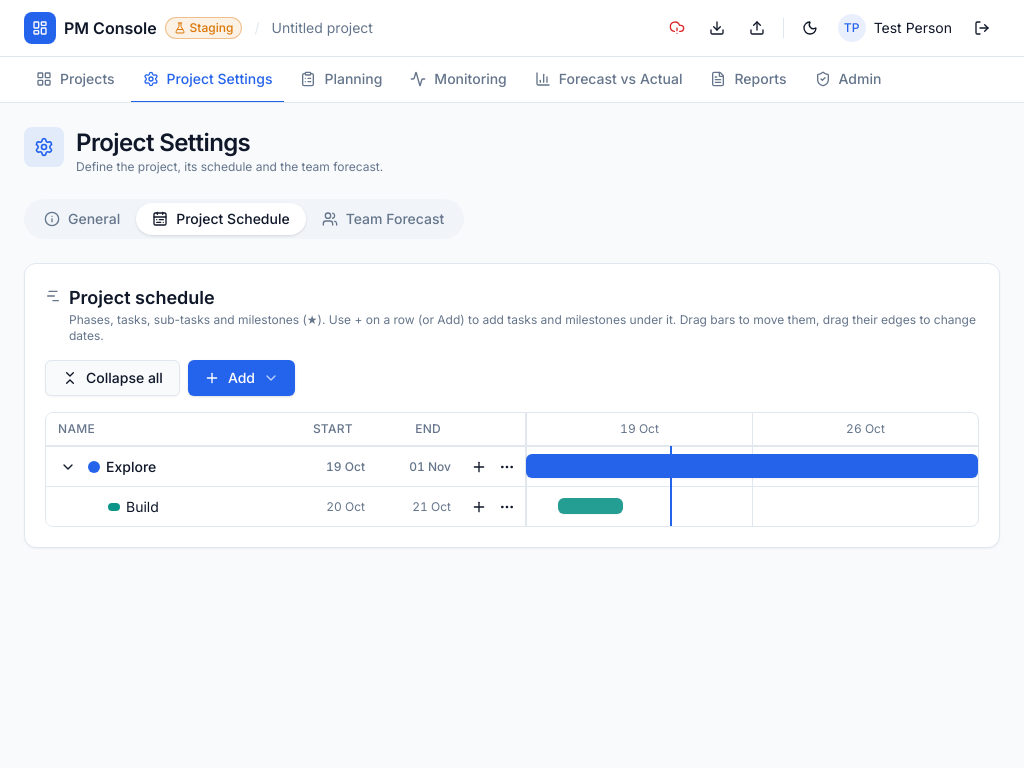
Test: Project schedule (Gantt) › collapses and expands children
The width and height of the screenshot is (1024, 768).
Expected: the element "Build 20 Oct 21 Oct" is shown, [46,486,526,526]
Click the button named "Collapse Explore": (68,466) [54,452,82,480]
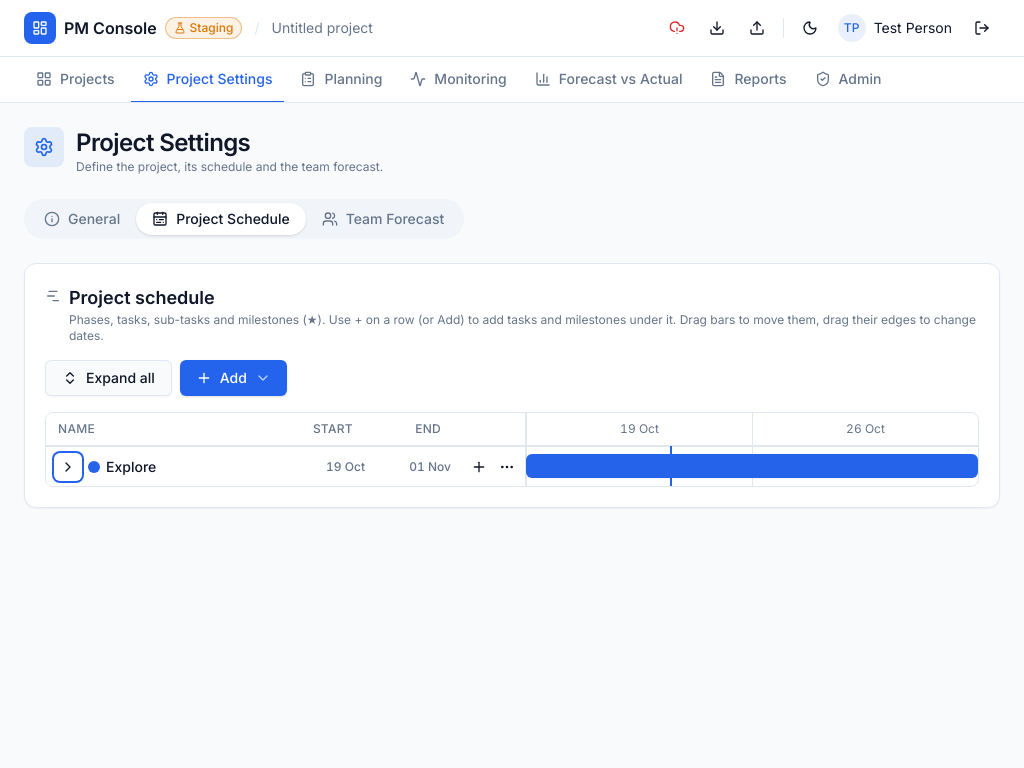
Now the text "Build" is gone
Click the button named "Expand Explore": (68,466) [54,452,82,480]
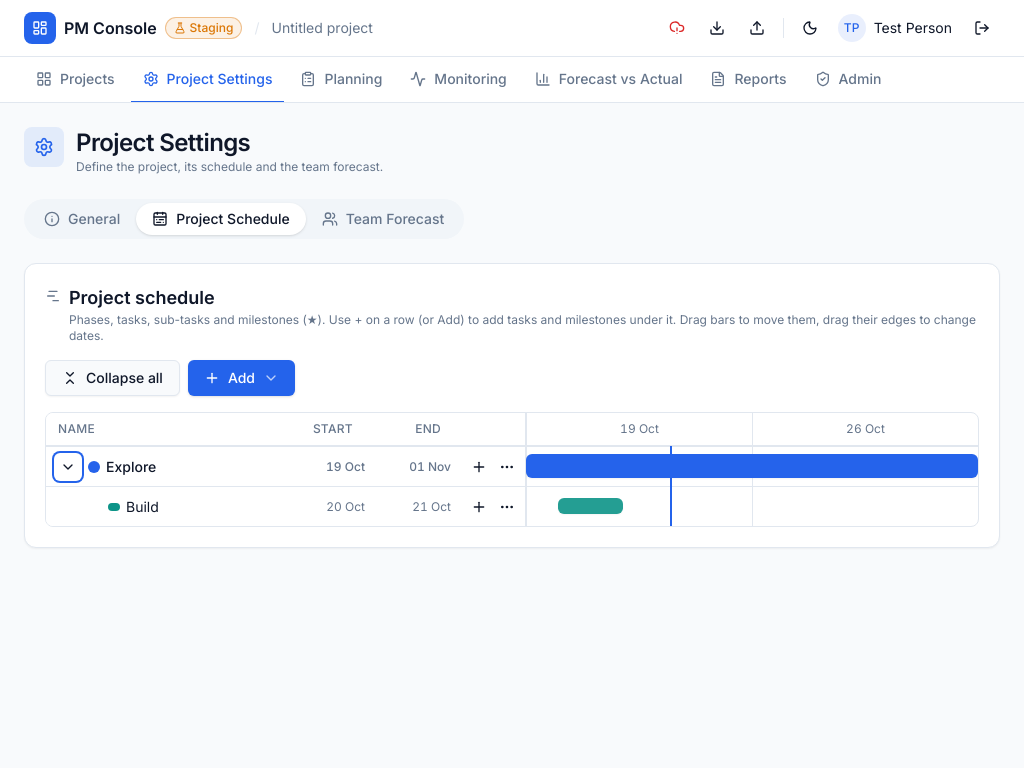
Now the element "Build 20 Oct 21 Oct" is shown, box [46,486,526,526]
